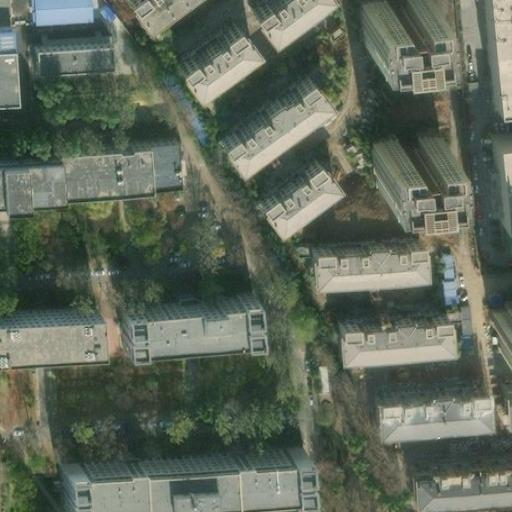building: (54, 444, 300, 496), (208, 70, 318, 162), (114, 282, 252, 335), (161, 16, 245, 90), (244, 154, 326, 227), (298, 234, 412, 279), (365, 373, 481, 417), (326, 307, 438, 350), (47, 137, 140, 183), (399, 448, 512, 485), (477, 0, 512, 97), (374, 141, 440, 190), (28, 32, 102, 71), (236, 0, 305, 35), (137, 127, 170, 178), (436, 249, 460, 305), (0, 37, 19, 102), (24, 0, 84, 19), (493, 307, 512, 350), (493, 368, 512, 410), (103, 65, 124, 84)
